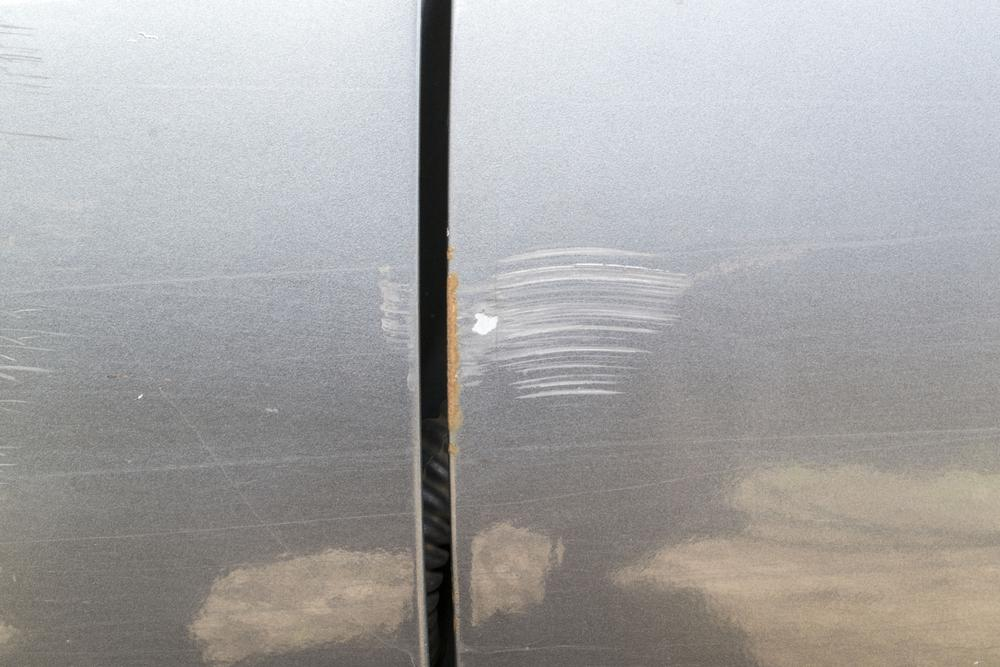scratch: (453, 241, 714, 410), (0, 18, 80, 420), (381, 264, 421, 392)
